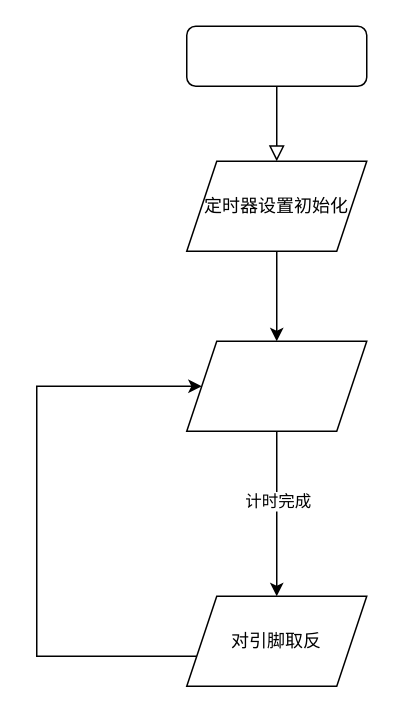
Image size: 393x713. Some labels were removed from this diagram. Here are the shapes that lost their labels. From the top down, the centre of each, then its label:
At pixel 276 55: "开始".
At pixel 276 385: "等待定时器计时".
